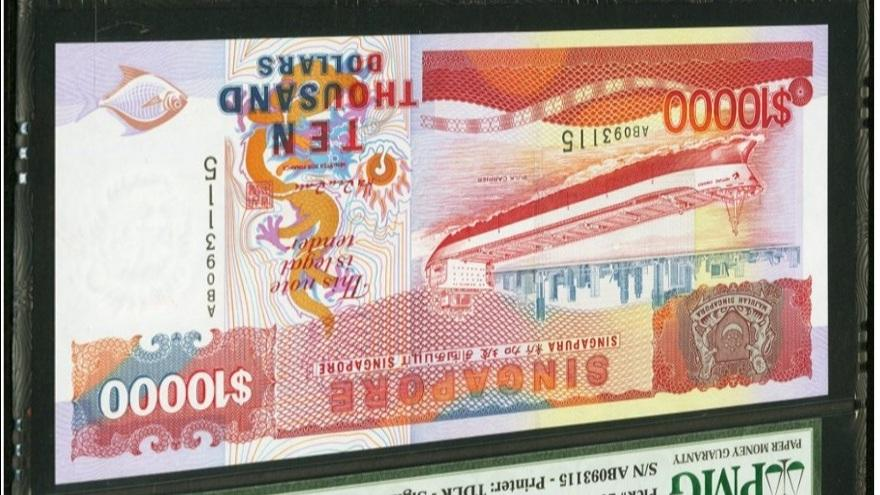10000SingaporeDollar: (57, 43, 820, 456)
